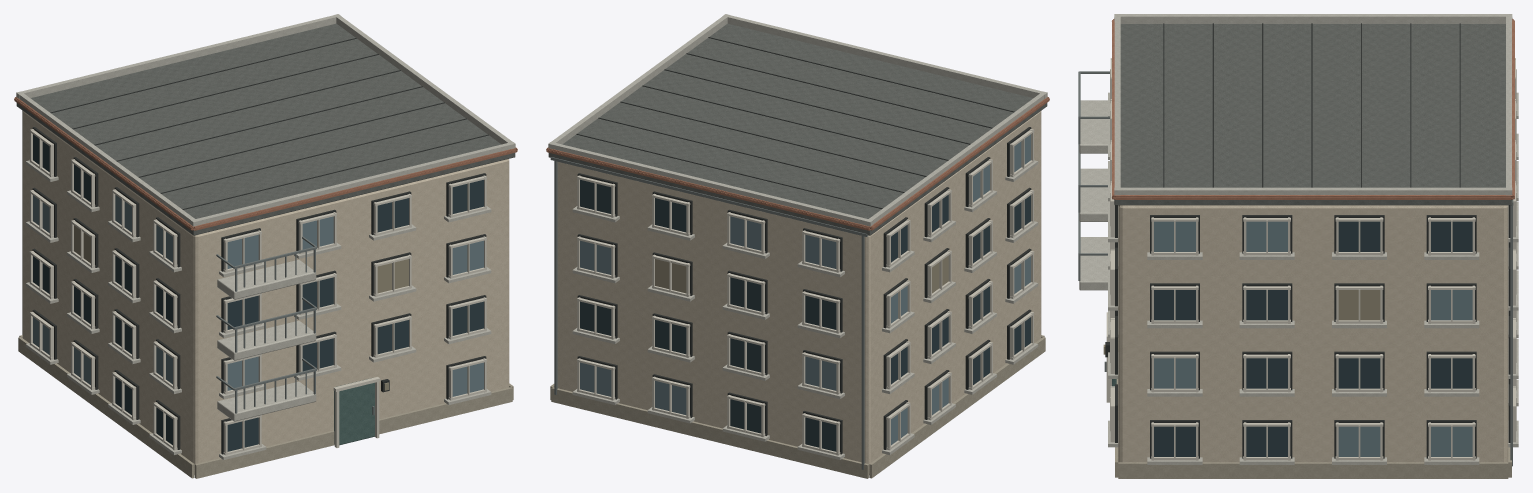
File: RES_MID_2x2_001.glb
The picture shows the model from 3 angles, left to right: view 1: azimuth 30°, elevation 25°; view 2: azimuth 150°, elevation 25°; view 3: azimuth 270°, elevation 25°; orthographic projection. The views are drawn at different scales.
Visible parts, largest first — view 1: RES_MID_2x2_001_Visual; view 2: RES_MID_2x2_001_Visual; view 3: RES_MID_2x2_001_Visual.
Part boxes in pixels (x1,y1,x2,y2): RES_MID_2x2_001_Visual: [14, 14, 517, 478]; RES_MID_2x2_001_Visual: [546, 14, 1049, 478]; RES_MID_2x2_001_Visual: [1078, 14, 1518, 478].
Size of what is drawn, in the model's own units: 3.31 by 2.45 by 3.39.
12 materials, 6 textured.
